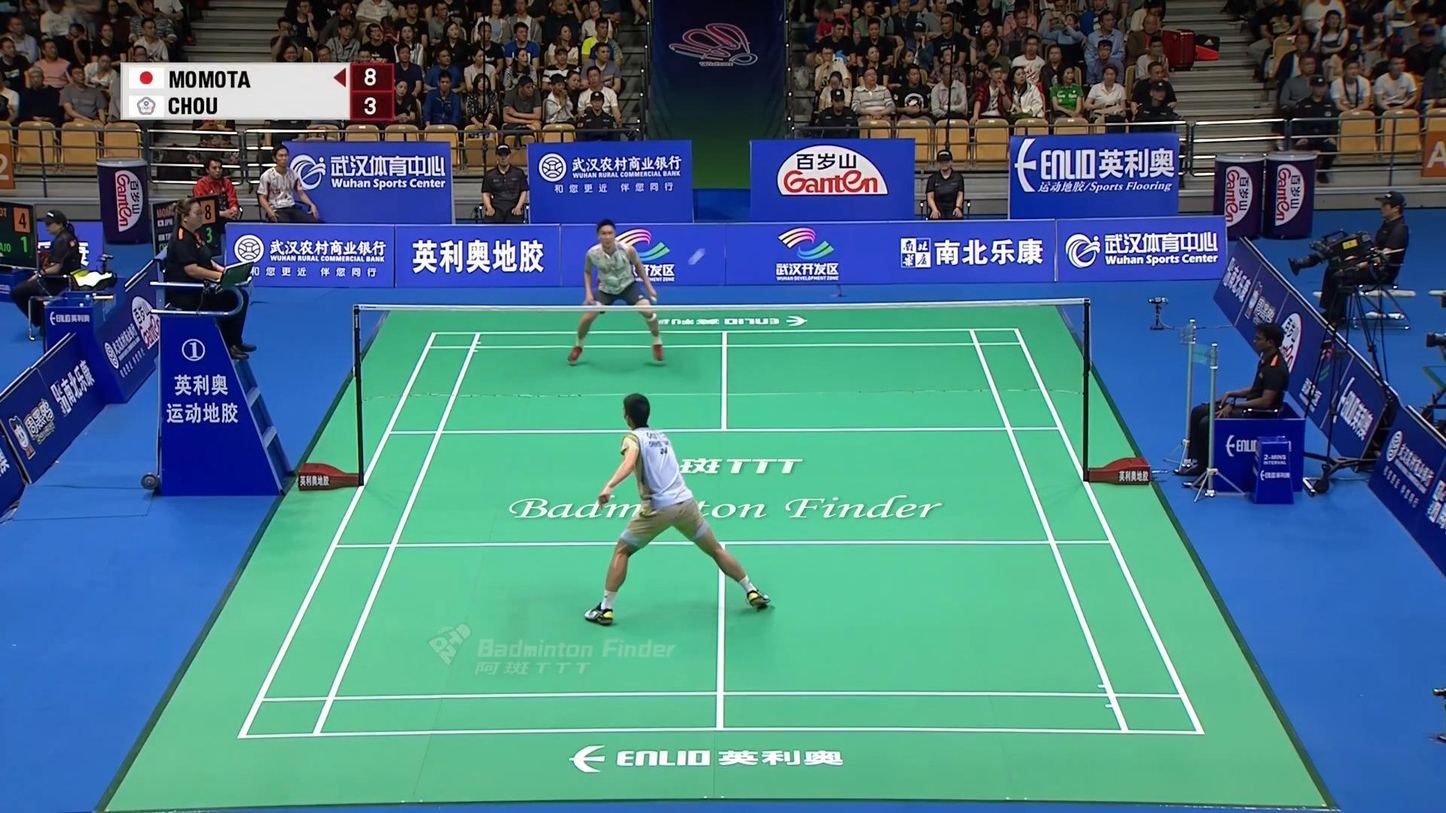player: (585, 392, 769, 627), (568, 218, 664, 366)
